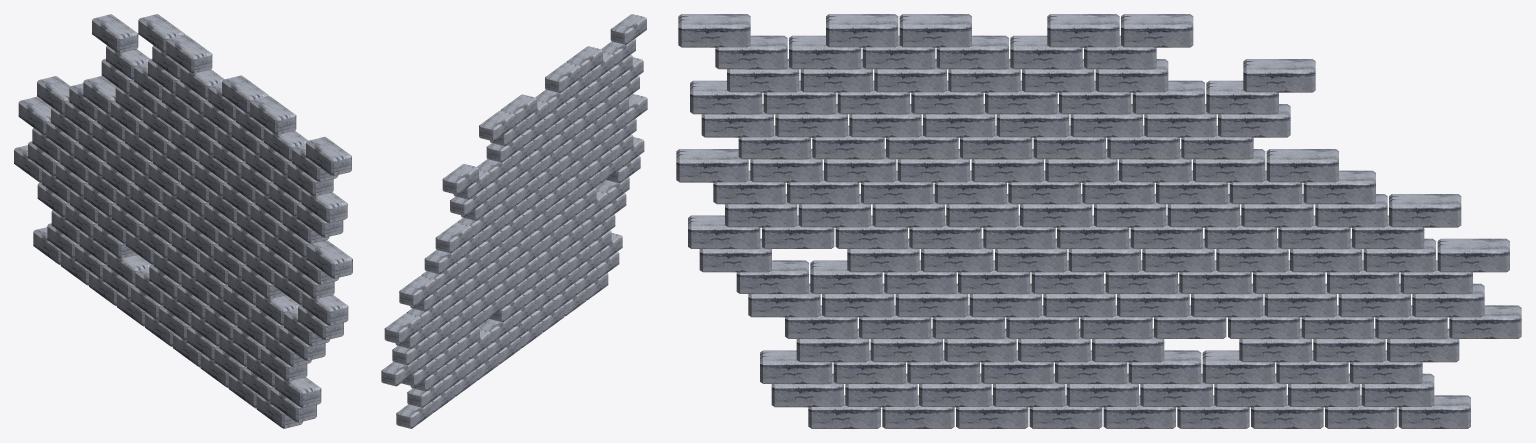
File: brick 2.fbx
3 views of the same model, side by side, from view 1: azimuth 30°, elevation 25°; view 2: azimuth 150°, elevation 25°; view 3: azimuth 270°, elevation 25° (orthographic). The views are drawn at different scales.
Parts seen in each view (by area): view 1: MASH1_ReproMesh; view 2: MASH1_ReproMesh; view 3: MASH1_ReproMesh.
Part boxes in pixels (x1,y1,x2,y2): MASH1_ReproMesh: (14, 14, 352, 428); MASH1_ReproMesh: (381, 14, 647, 428); MASH1_ReproMesh: (676, 14, 1521, 428).
Bounding box in the file's own units: 1 × 13.75 × 26.07.
